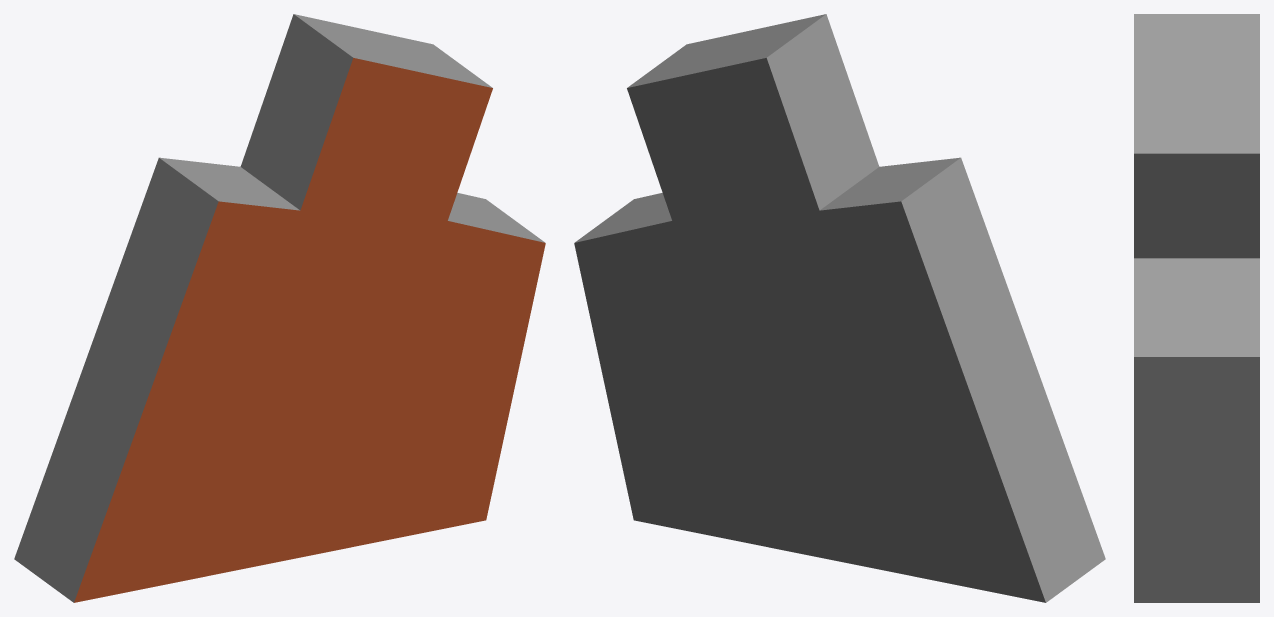
The model's file is construction_6806_assumed_A_Casa_h6m.obj.
The picture shows the model from 3 angles, left to right: view 1: azimuth 30°, elevation 25°; view 2: azimuth 150°, elevation 25°; view 3: azimuth 270°, elevation 25°; orthographic projection. The views are drawn at different scales.
Parts seen in each view (by area): view 1: construction_6806_assumed_A_Casa; view 2: construction_6806_assumed_A_Casa; view 3: construction_6806_assumed_A_Casa.
Boxes of the visible parts, x1,y1,x2,y2 form: construction_6806_assumed_A_Casa: (14, 14, 545, 602); construction_6806_assumed_A_Casa: (574, 14, 1105, 602); construction_6806_assumed_A_Casa: (1134, 14, 1259, 602).
Bounding box in the file's own units: 27.32 × 27.38 × 6.
